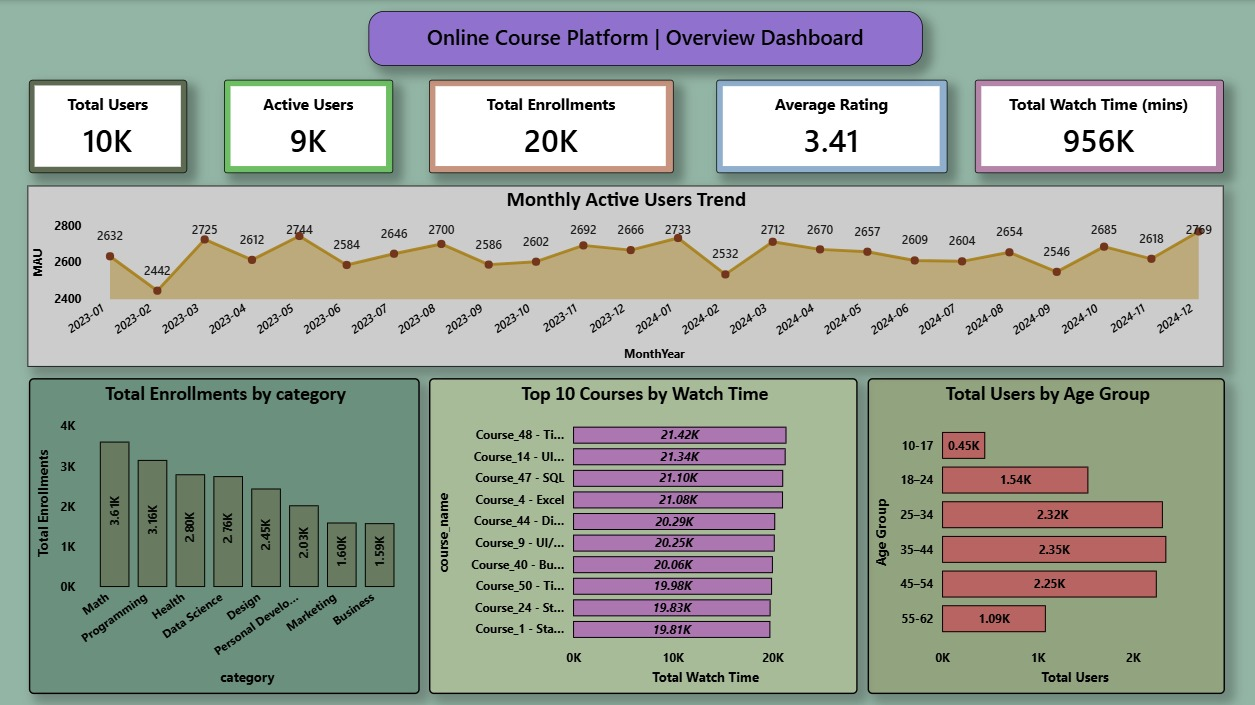

Layout of this report page (visuals, bound fields, positions):
{"tool":"powerbi","page":{"name":"Overview Dashboard","canvas":[1280,720],"ordinal":0},"visuals":[{"type":"cardVisual","fields":{"Data":["Calendar.Total Users"]},"box":[29.4,81.3,161.2,95.3],"z":0},{"type":"cardVisual","fields":{"Data":["Calendar.Active Users"]},"box":[228.5,81.3,172.5,95.3],"z":1000},{"type":"cardVisual","fields":{"Data":["Calendar.Total Enrollments"]},"box":[437.4,81.3,249.6,95.3],"z":2000},{"type":"cardVisual","fields":{"Data":["Calendar.Average Rating"]},"box":[730.5,81.3,235.5,95.3],"z":3000},{"type":"cardVisual","fields":{"Data":["Calendar.Total Watch Time"]},"box":[994.1,81.3,253.8,95.3],"z":4000},{"type":"lineChart","title":"Monthly Active Users Trend","fields":{"Category":["Calendar.MonthYear"],"Y":["Calendar.MAU"]},"box":[28,189.3,1219.8,185.1],"z":5000},{"type":"clusteredColumnChart","fields":{"Category":["oc_courses.category"],"Y":["Calendar.Total Enrollments"]},"box":[29.4,385.6,398.2,322.5],"z":6000},{"type":"clusteredBarChart","title":"Top 10 Courses by Watch Time","fields":{"Y":["Calendar.Total Watch Time"],"Category":["oc_courses.course_name"]},"box":[437.4,385.6,437.4,322.5],"z":7000},{"type":"clusteredBarChart","fields":{"Category":["oc_users.Age Group"],"Y":["Calendar.Users_Count"]},"box":[884.7,385.6,364.5,322.5],"z":8000},{"type":"textbox","box":[375.8,11.2,565,56.1],"z":9000}]}

Visuals, with their boxes in screenshot pixels (x1, y1, x2, y2), scaled from the page's 1280x720 canvas onto the 1255x705 screenshot:
cardVisual - Calendar.Total Users: 29,80,187,173
cardVisual - Calendar.Active Users: 224,80,393,173
cardVisual - Calendar.Total Enrollments: 429,80,674,173
cardVisual - Calendar.Average Rating: 716,80,947,173
cardVisual - Calendar.Total Watch Time: 975,80,1224,173
"Monthly Active Users Trend" lineChart: 27,185,1223,367
clusteredColumnChart - oc_courses.category x Calendar.Total Enrollments: 29,378,419,693
"Top 10 Courses by Watch Time" clusteredBarChart: 429,378,858,693
clusteredBarChart - oc_users.Age Group x Calendar.Users_Count: 867,378,1225,693
textbox: 368,11,922,66
